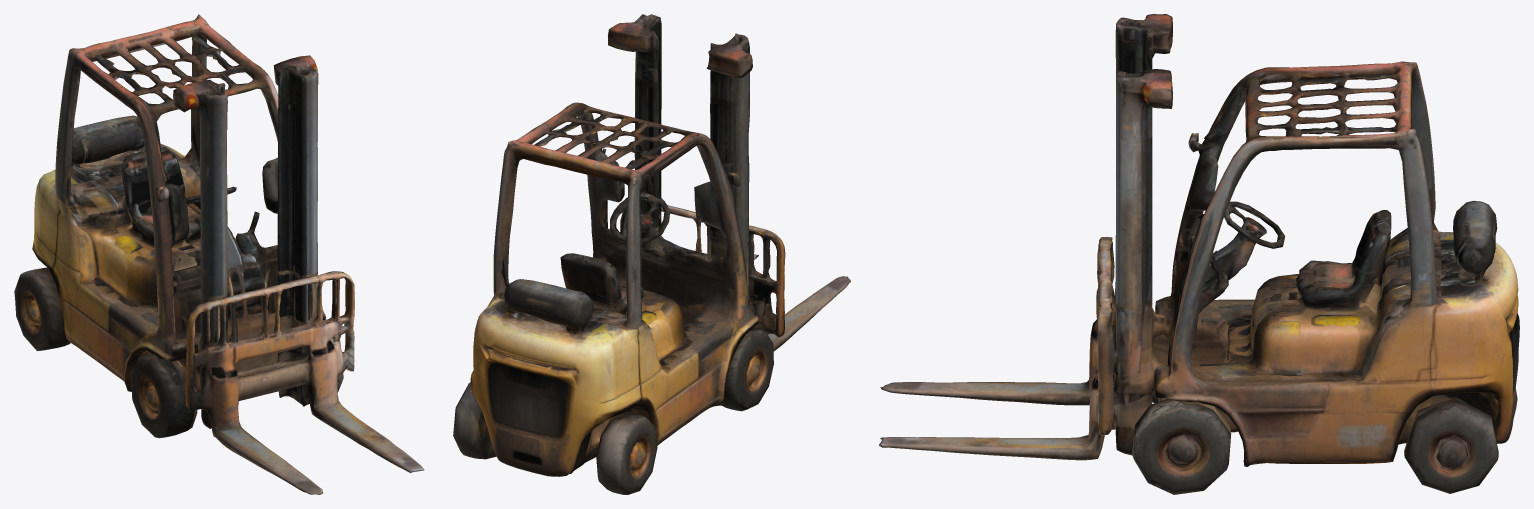
The model's file is a_forklift_a_smalle_0328181137_texture.glb.
3 views of the same model, side by side, from view 1: azimuth 30°, elevation 25°; view 2: azimuth 150°, elevation 25°; view 3: azimuth 270°, elevation 25° (orthographic). The views are drawn at different scales.
Size of the model in its own units: 0.7418 by 1.39 by 2.
Materials: 1 (1 with a texture image).
